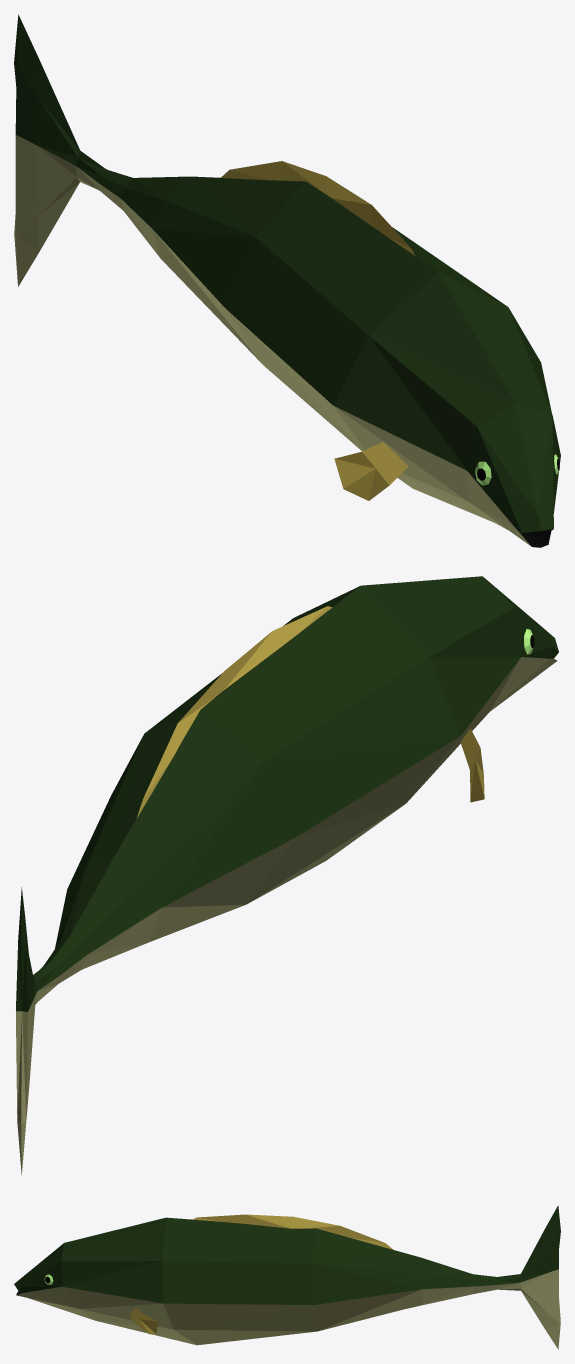
The model's file is Minnow_000010.obj.
3 views of the same model, one above another, from view 1: azimuth 30°, elevation 25°; view 2: azimuth 150°, elevation 25°; view 3: azimuth 270°, elevation 25° (orthographic). The views are drawn at different scales.
Size of the model in its own units: 0.7082 by 0.9146 by 3.01.
